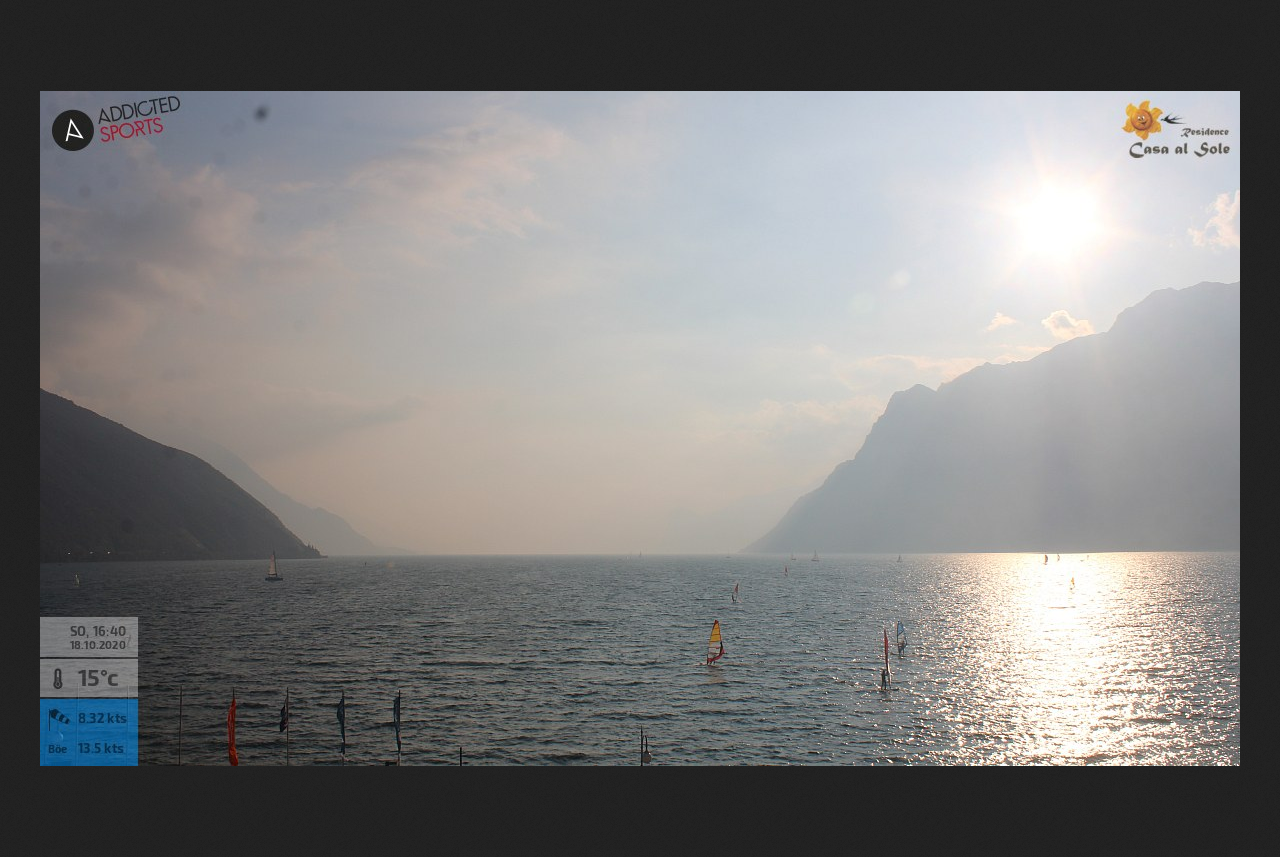no: (272, 695, 293, 735)
